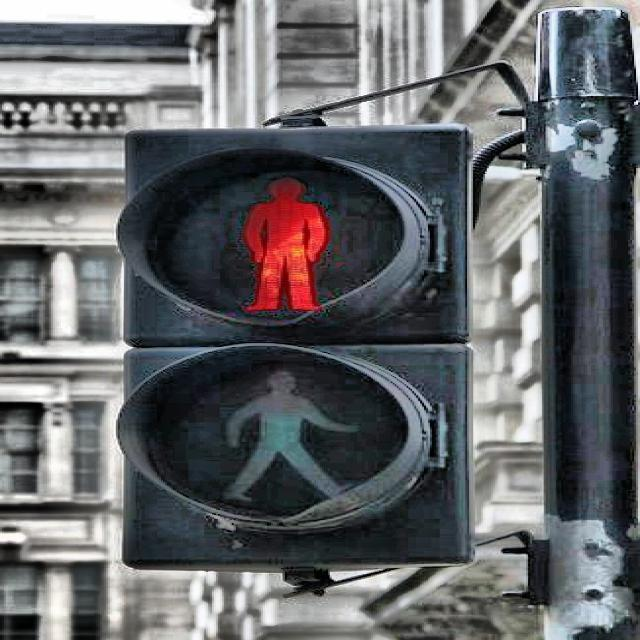red_light: (240, 174, 334, 313)
